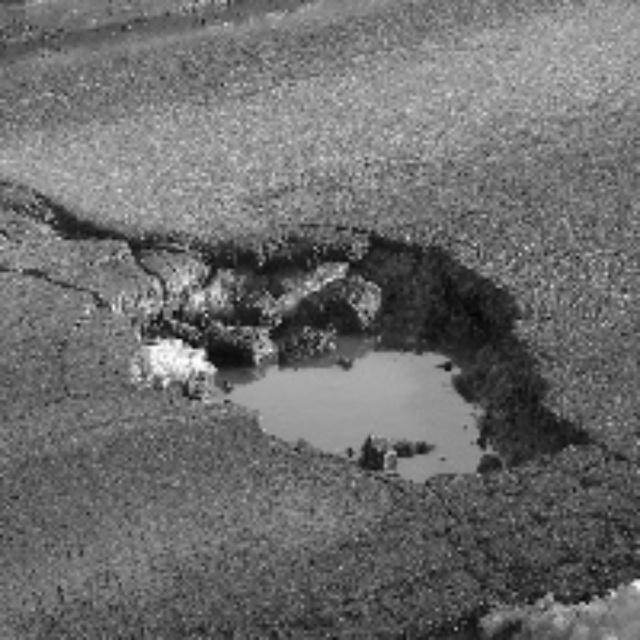Pothole: (89, 208, 604, 510)
